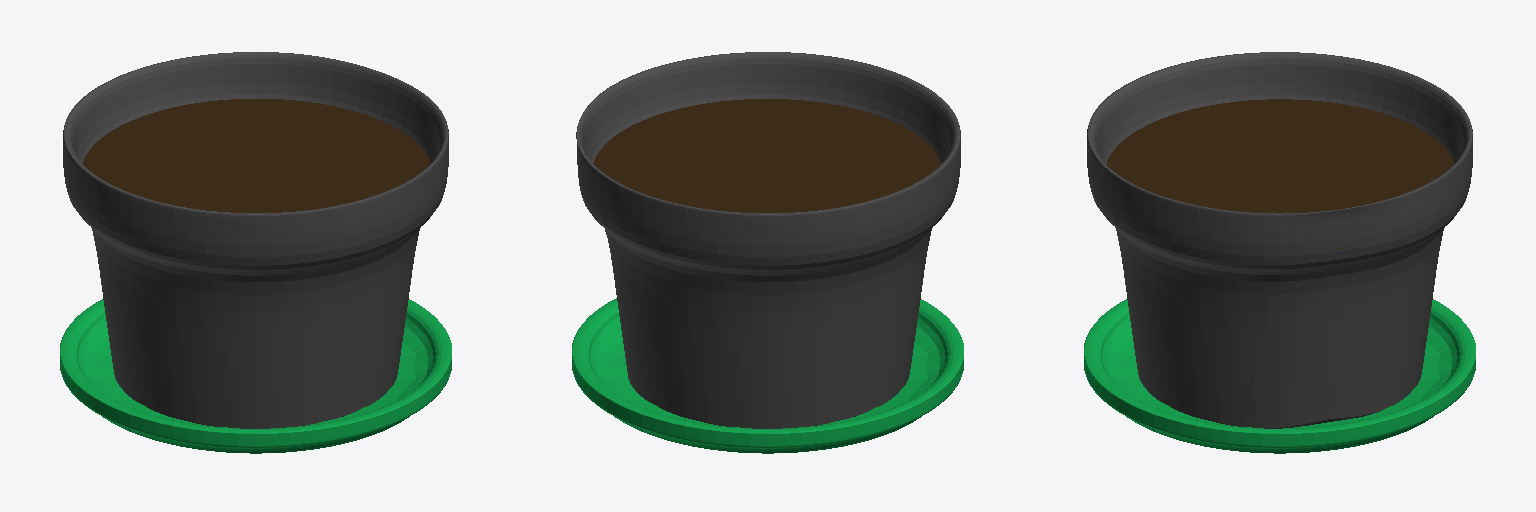
File: Plant.obj
The picture shows the model from 3 angles: view 1: azimuth 30°, elevation 25°; view 2: azimuth 150°, elevation 25°; view 3: azimuth 270°, elevation 25°; orthographic projection.
Visible parts, largest first — view 1: Pot, Cylinder001, Cylinder002; view 2: Pot, Cylinder001, Cylinder002; view 3: Pot, Cylinder001, Cylinder002.
Boxes of the visible parts, box(x1,y1,x2,y2) form: Pot: box(63, 52, 448, 428); Cylinder001: box(83, 99, 430, 212); Cylinder002: box(60, 299, 451, 453); Pot: box(576, 52, 960, 428); Cylinder001: box(593, 99, 940, 212); Cylinder002: box(572, 298, 963, 453); Pot: box(1087, 52, 1472, 428); Cylinder001: box(1106, 99, 1453, 249); Cylinder002: box(1084, 299, 1475, 453).
Size of the model in its own units: 5.39 by 3.73 by 5.39.